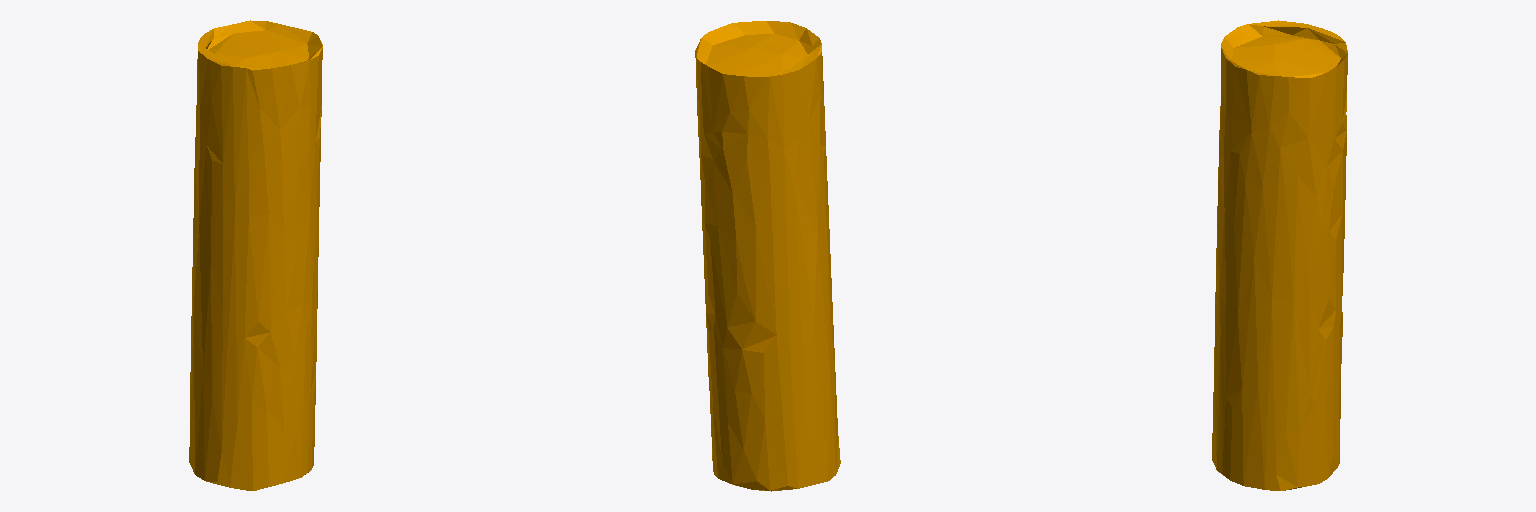
robot.urdf — CoffeeCookies_800_tex:
<?xml version="1.0"?>
<robot name="CoffeeCookies_800_tex">
  <link name="base_link">
    <contact>
      <lateral_friction value="1.0"/>
      <rolling_friction value="0.0"/>
      <contact_cfm value="0.0"/>
      <contact_erp value="1.0"/>
    </contact>
    <inertial>
      <mass value="0.122636013269"/>
      <inertia ixx="1" ixy="0" ixz="0" iyy="1" iyz="0" izz="1"/>
    </inertial>
    <visual>
      <geometry>
        <mesh filename="CoffeeCookies_800_tex_visual.obj"/>
      </geometry>
    </visual>
    <collision>
      <geometry>
        <mesh filename="CoffeeCookies_800_tex_collision.obj"/>
      </geometry>
    </collision>
  </link>
</robot>

--- What the picture shows (computed from the rendered views, not written in the file) ---
3 views of the same robot in one strip: view 1: azimuth 30°, elevation 25°; view 2: azimuth 150°, elevation 25°; view 3: azimuth 270°, elevation 25° (orthographic).
Model CoffeeCookies_800_tex with 1 links and 0 joints (none), rooted at base_link, posed every joint at zero.
Links seen in each view (by area): view 1: base_link; view 2: base_link; view 3: base_link.
Link boxes in pixels (x1,y1,x2,y2): base_link: [189, 20, 322, 490]; base_link: [695, 21, 840, 491]; base_link: [1212, 20, 1347, 490].
Bounding box of the posed robot: 0.0451 × 0.0431 × 0.1481 m (x, y, z).
Meshes: 1 distinct files referenced, 1 mesh visuals loaded (1 OBJ).